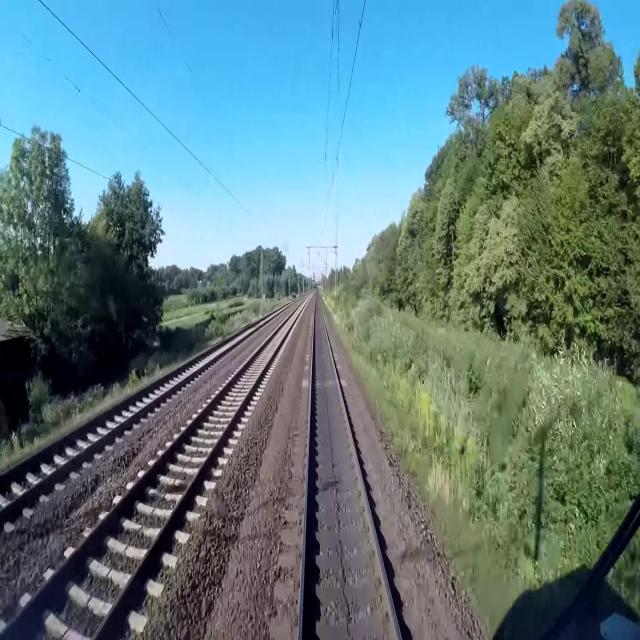rail-track: (2, 299, 306, 639), (0, 315, 271, 505), (303, 295, 399, 639)
